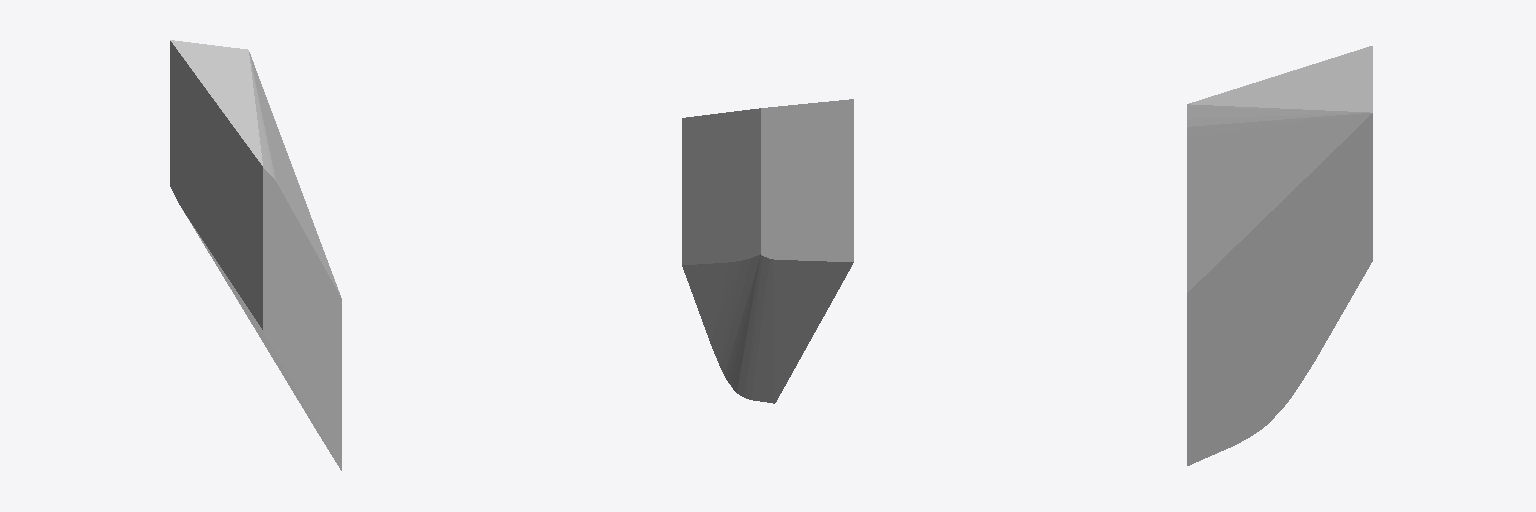
The model's file is Bowl_21_collision_25.obj.
The picture shows the model from 3 angles: view 1: azimuth 30°, elevation 25°; view 2: azimuth 150°, elevation 25°; view 3: azimuth 270°, elevation 25°; orthographic projection.
Size of the model in its own units: 0.0157 by 0.0728 by 0.0322.